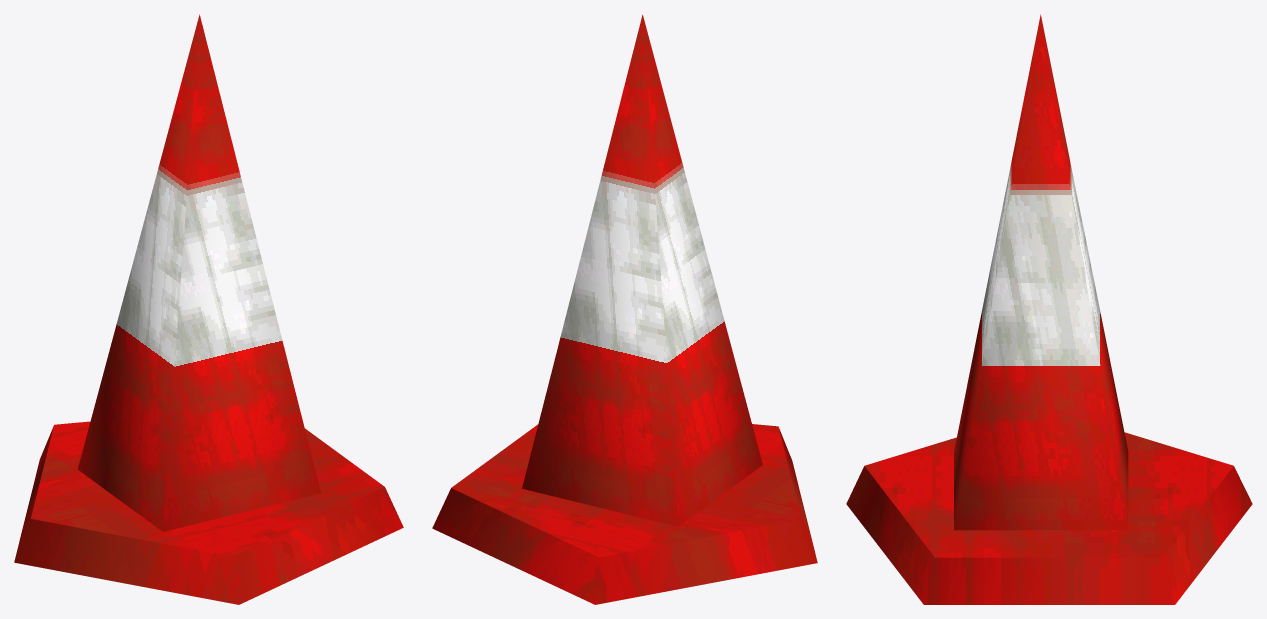
Rendered from trafficcone.obj.
The picture shows the model from 3 angles, left to right: view 1: azimuth 30°, elevation 25°; view 2: azimuth 150°, elevation 25°; view 3: azimuth 270°, elevation 25°; orthographic projection. The views are drawn at different scales.
Parts seen in each view (by area): view 1: trafficcone_L0; view 2: trafficcone_L0; view 3: trafficcone_L0.
Part boxes in pixels (x1,y1,x2,y2): trafficcone_L0: [14, 14, 403, 604]; trafficcone_L0: [432, 14, 817, 604]; trafficcone_L0: [846, 14, 1252, 604].
Bounding box in the file's own units: 0.5592 × 0.8265 × 0.588.
